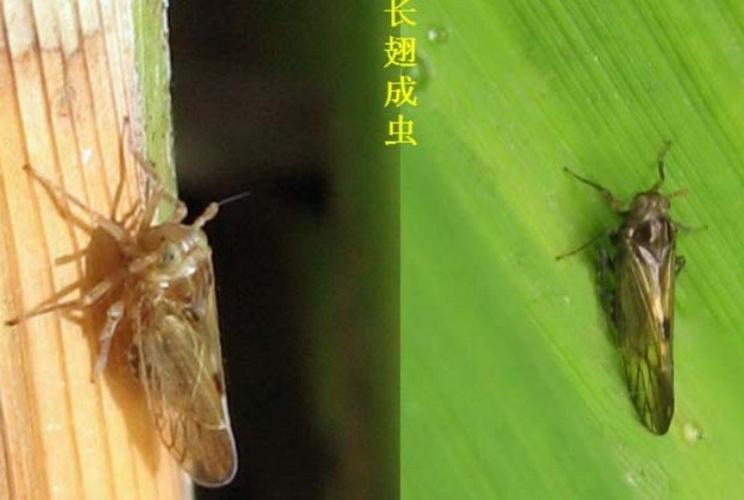Delphacidae: (2, 116, 238, 489), (556, 140, 709, 435)
